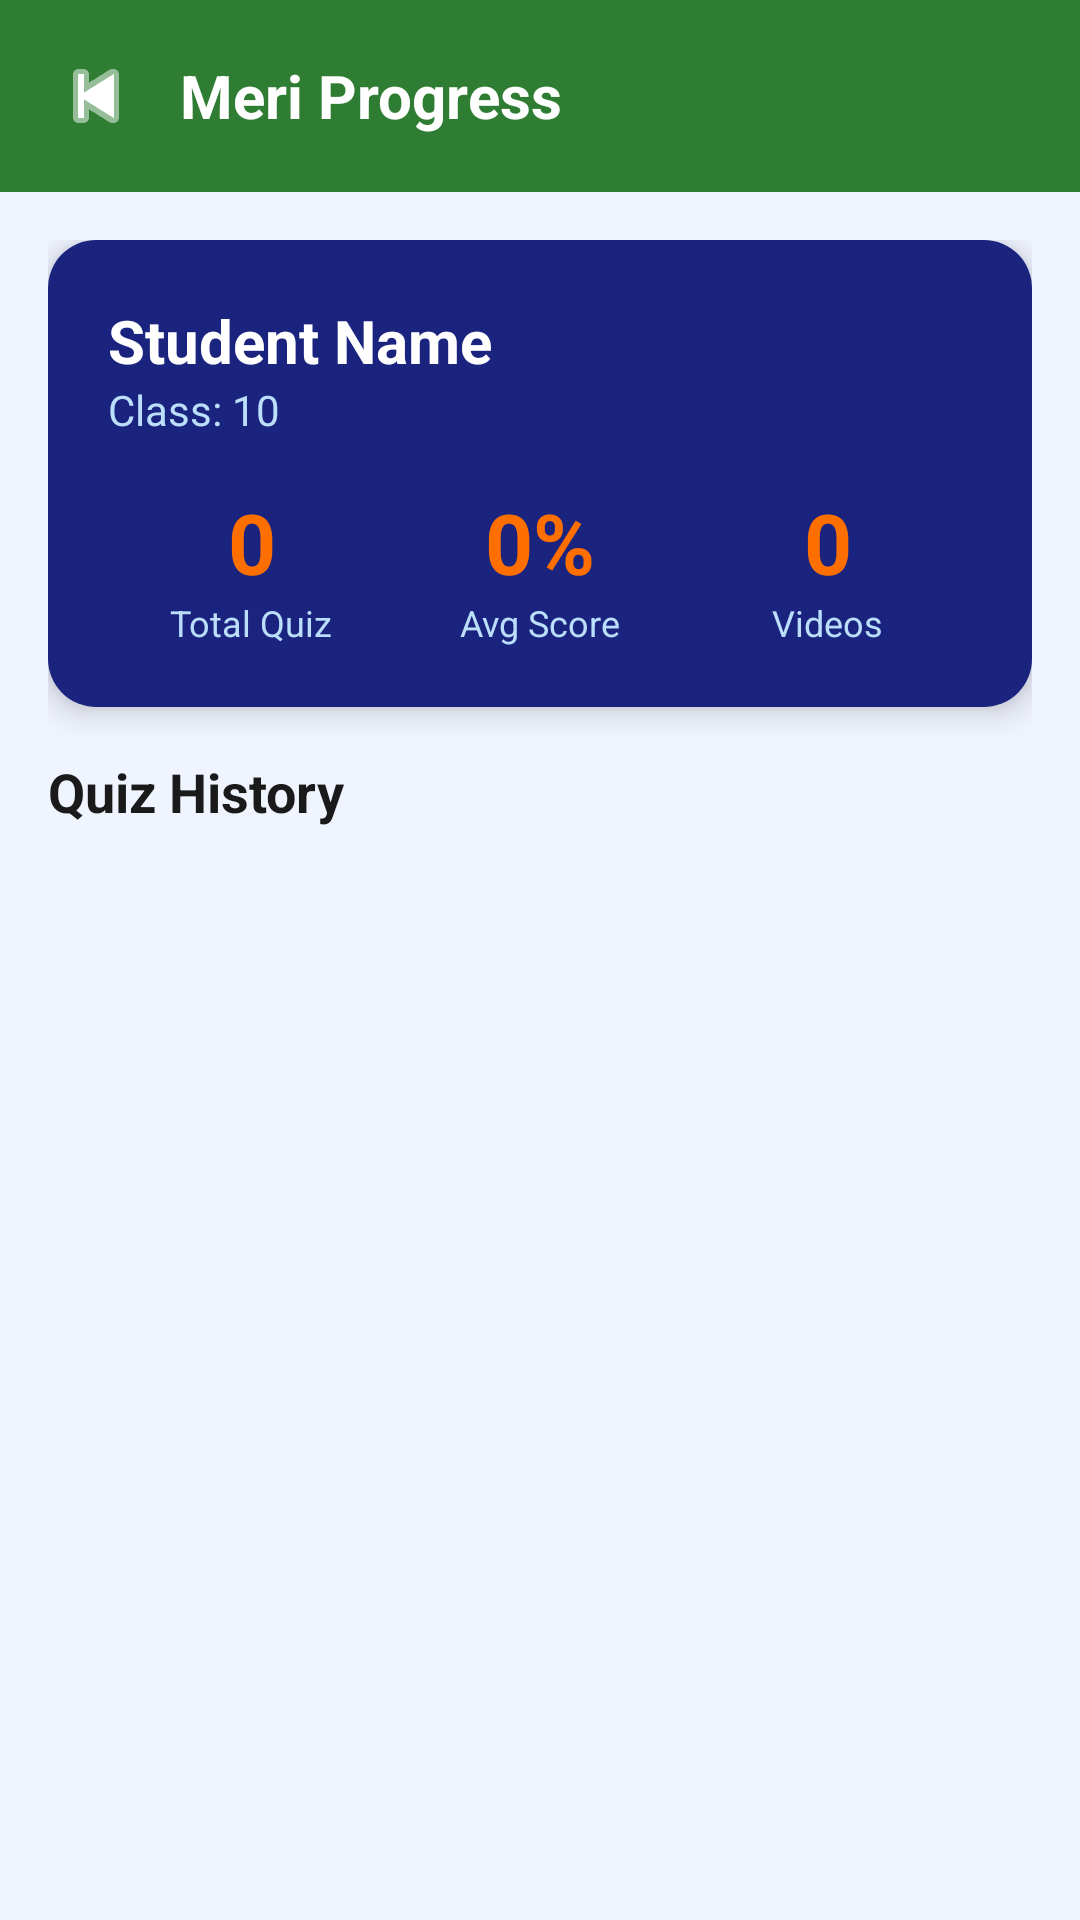

Where icons sit on this 1080 × 1920 app screen, as (x1, y1, x2, y2):
previous: (73, 69, 119, 123)
